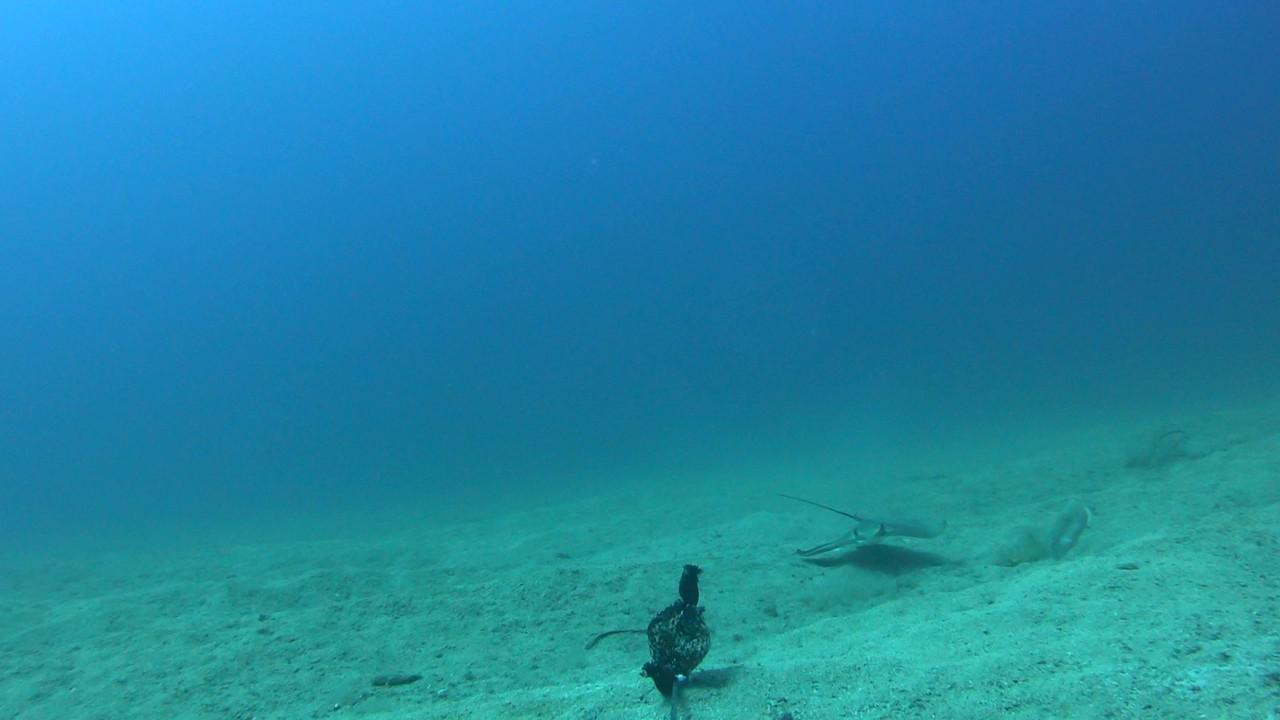myliobatis: (778, 470, 978, 570)
